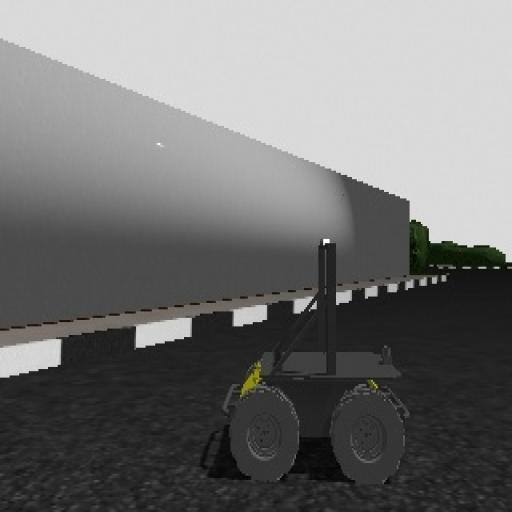huskya200: (216, 229, 428, 489)
